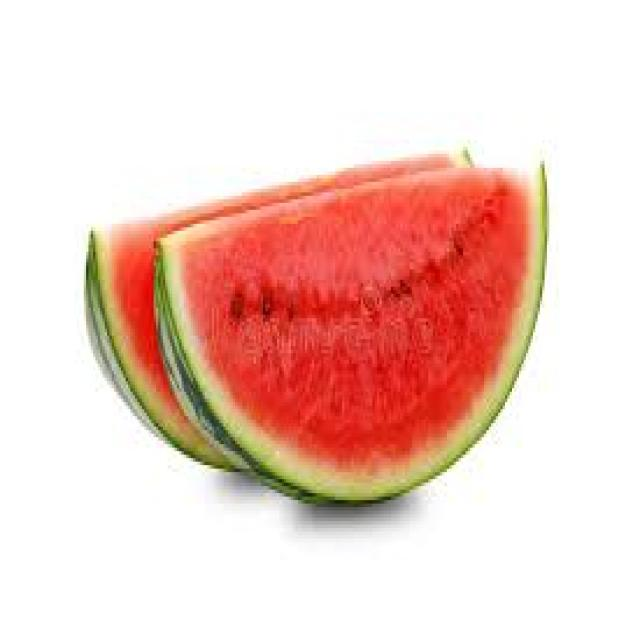watermelon: (149, 144, 549, 504), (85, 152, 497, 476)
